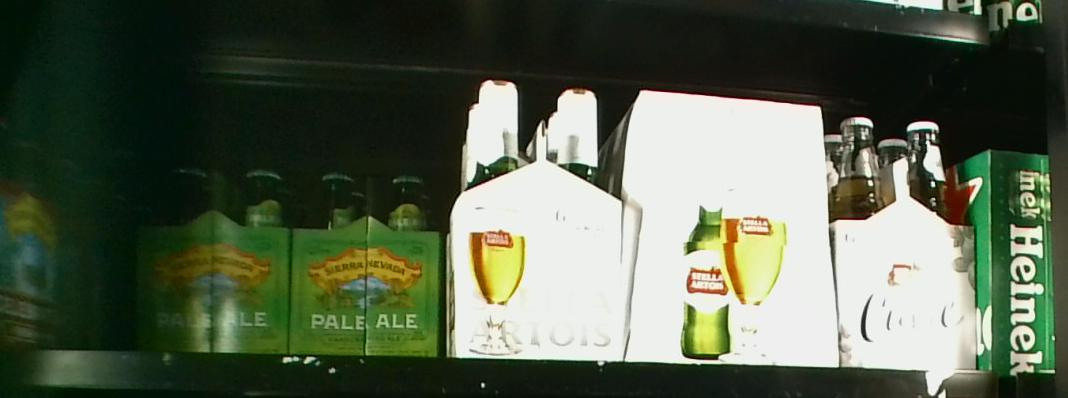bottle: (628, 88, 832, 371), (453, 77, 627, 363), (828, 116, 979, 368), (130, 165, 291, 353), (290, 166, 445, 357)
